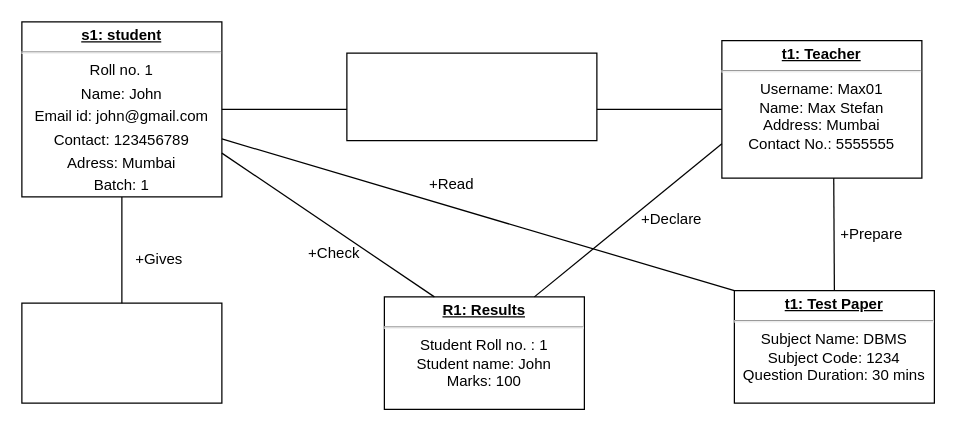
This 956x431 diagram has some shape labels left out. Here are the shapes that lost their labels. From the top down, the centre of each, then its label:
At (x=471, y=96): "a1: admin Username: admin1".
At (x=121, y=352): "r1: Response Student Roll no. : 1 Subject Code: 1234 Subject Name: DBMS".
